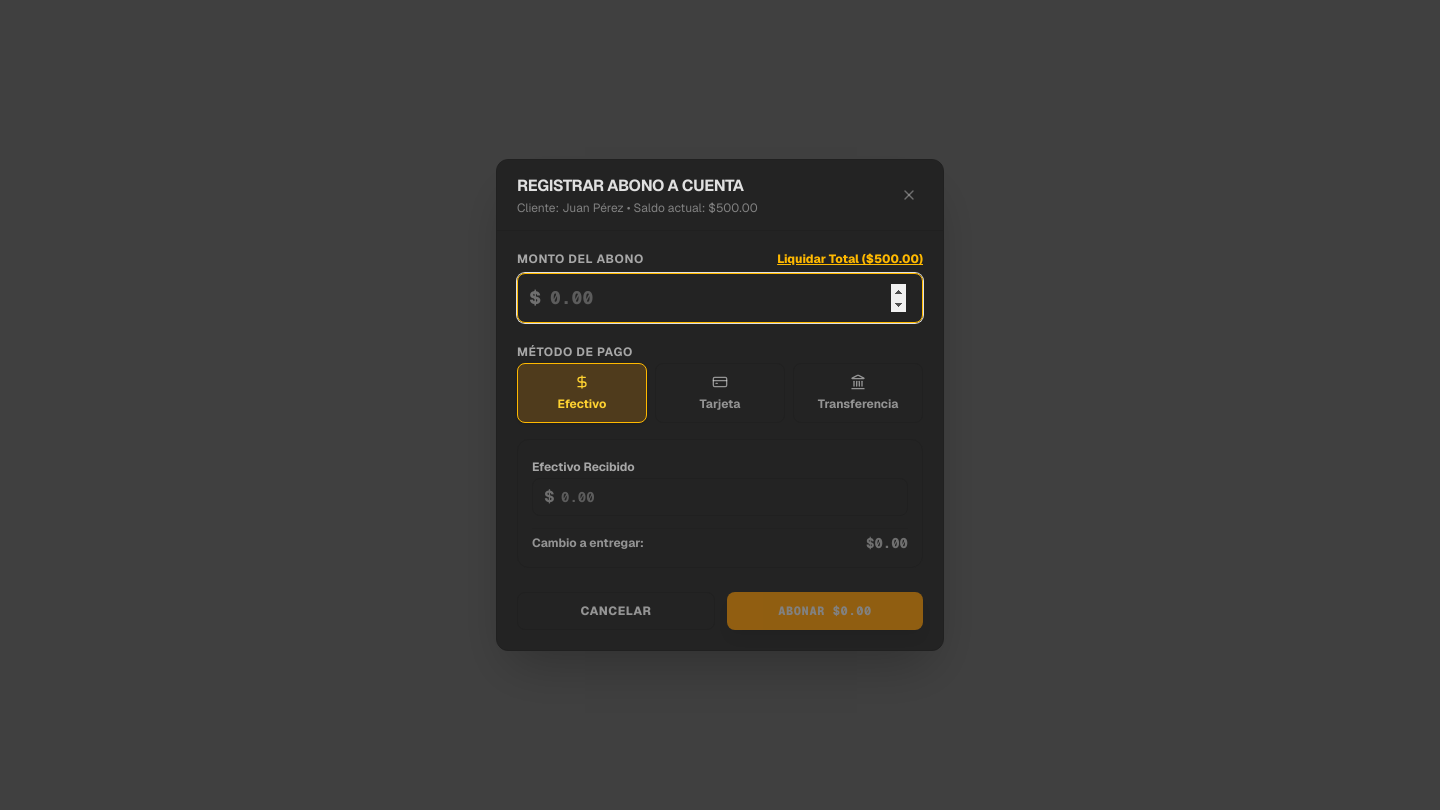
CustomerAbonoModal Component › pre-fills full debt when 'Liquidar Total' is clicked
Click the button "Liquidar Total ($500.00)" at (850, 259), box [777,251,923,267]
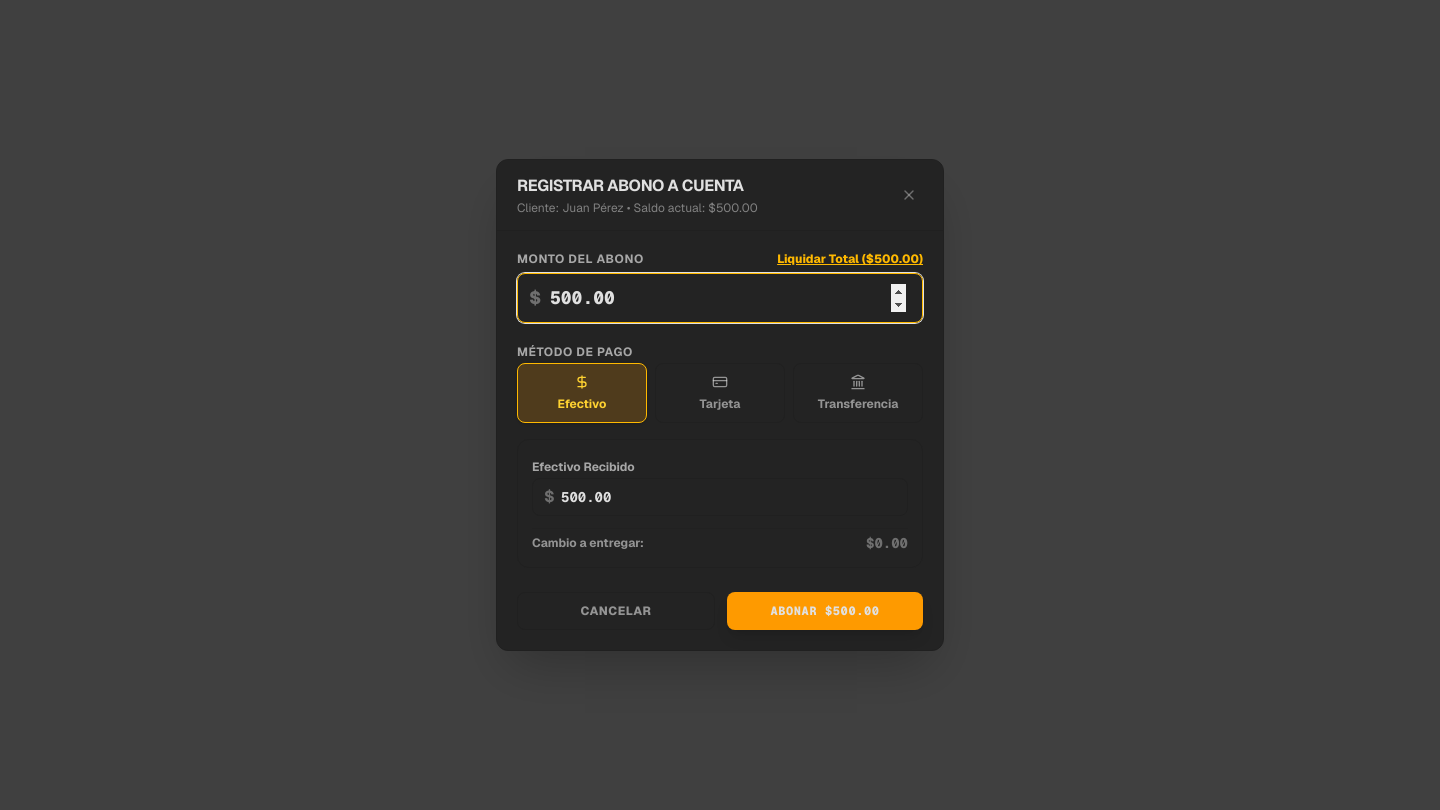
Expected: the number field labelled "Monto del Abono" holds "500.00", [517,273,923,323]
